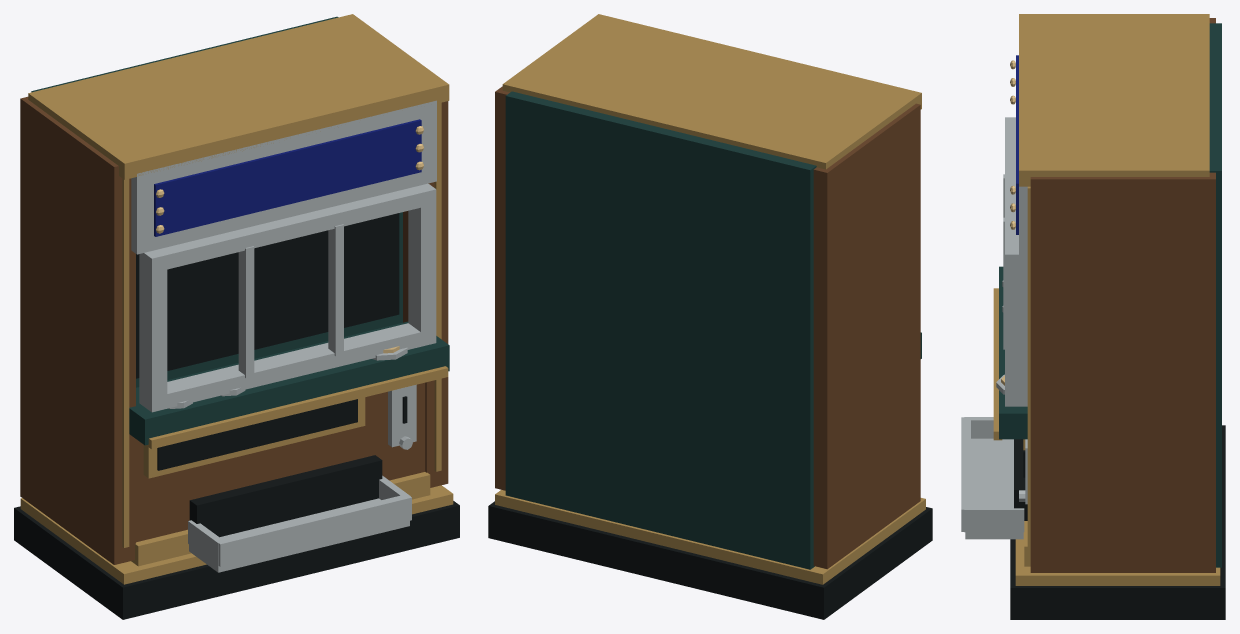
Rendered from slot_cabinet.glb.
The picture shows the model from 3 angles, left to right: view 1: azimuth 30°, elevation 25°; view 2: azimuth 150°, elevation 25°; view 3: azimuth 270°, elevation 25°; orthographic projection.
Visible parts, largest first — view 1: Palette, Walnut; view 2: Palette, Walnut; view 3: Walnut, Palette.
Boxes of the visible parts, x1=… form: Palette: x1=14, y1=14, x2=459, y2=619; Walnut: x1=20, y1=96, x2=448, y2=564; Palette: x1=488, y1=14, x2=932, y2=619; Walnut: x1=495, y1=86, x2=920, y2=569; Walnut: x1=1030, y1=18, x2=1215, y2=572; Palette: x1=961, y1=14, x2=1225, y2=619.
Size of the model in its own units: 2.18 by 2.79 by 1.5.
